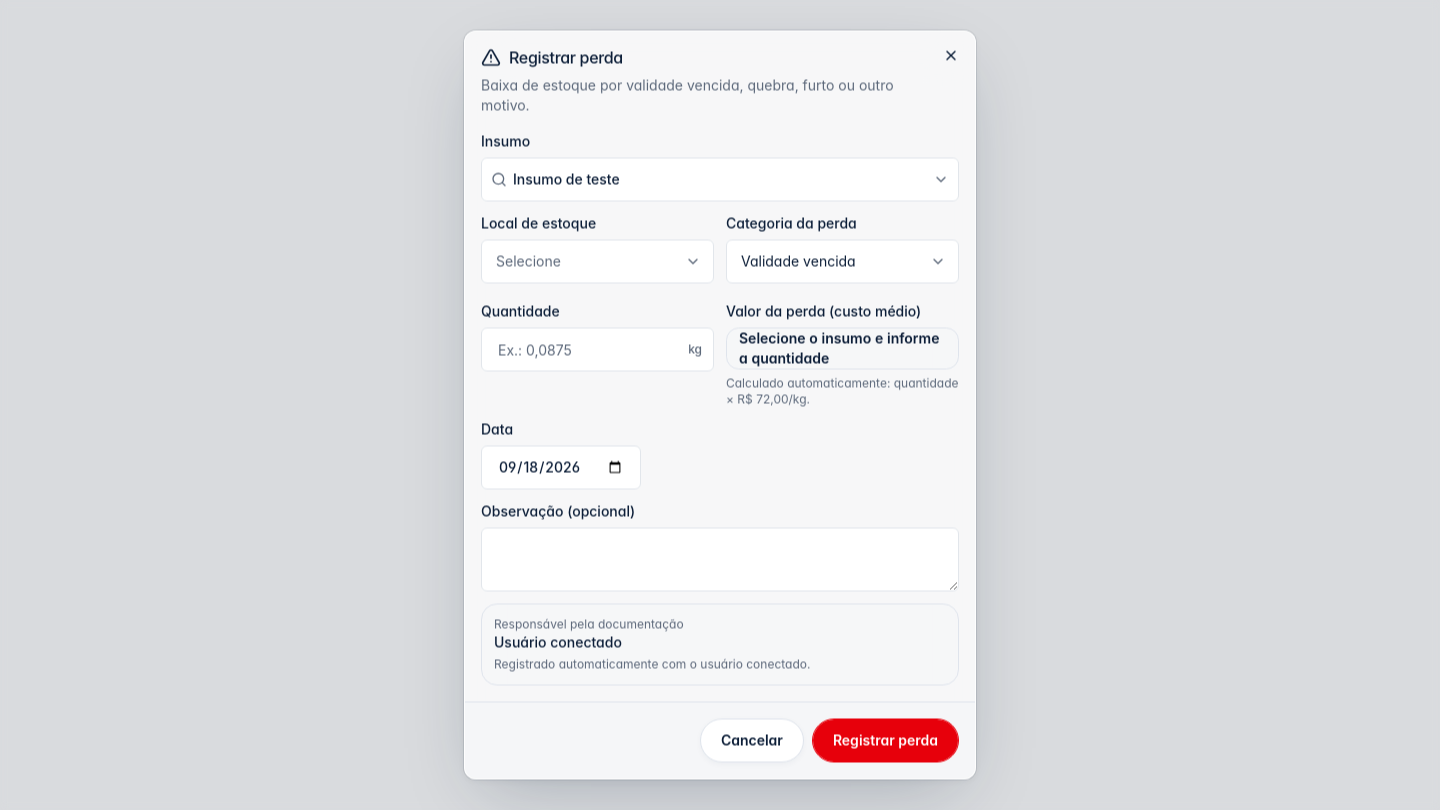
exibe o valor calculado pelo custo médio e não oferece campo editável
The image size is (1440, 810).
Type "1,25" into the field named "Quantidade" at x=598, y=350, box [481, 328, 714, 372]
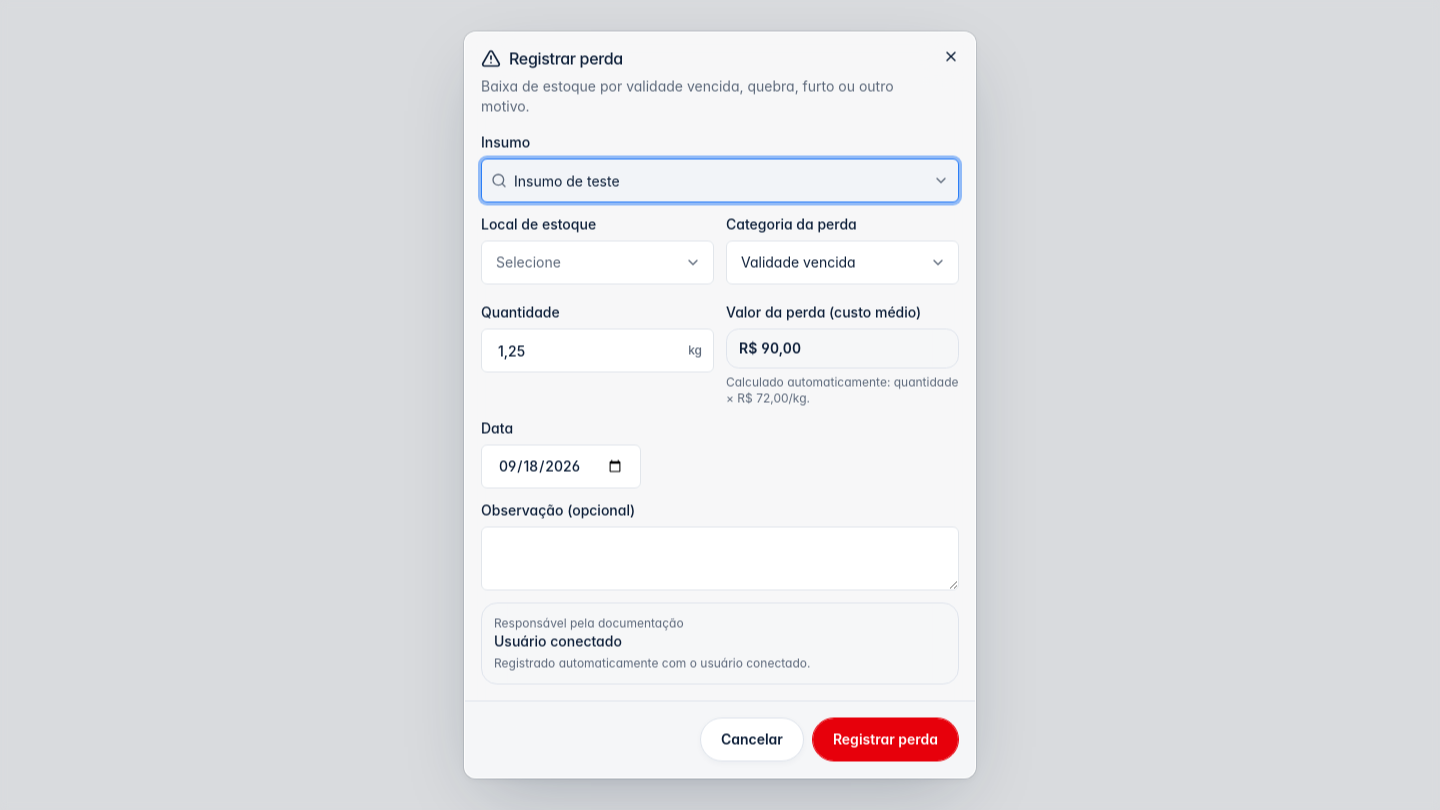
Expected: the text "R$ 90,00" is shown, [726, 328, 959, 368]
